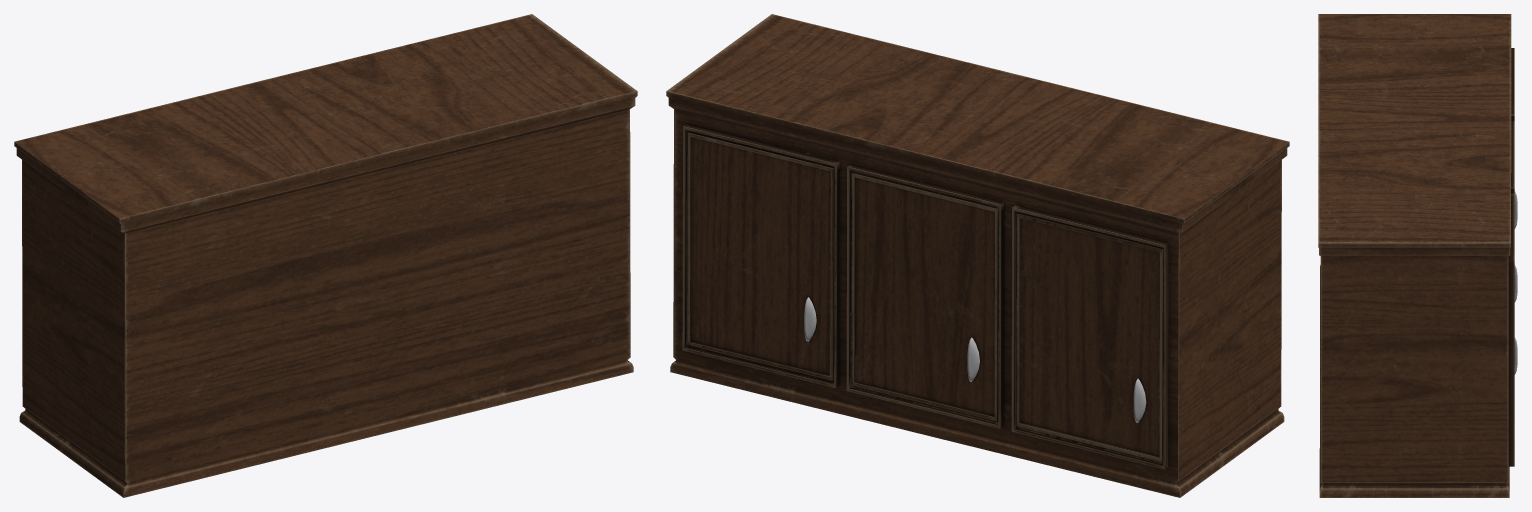
The model's file is ARC0510170.fbx.
3 renders of one model, left to right at view 1: azimuth 30°, elevation 25°; view 2: azimuth 150°, elevation 25°; view 3: azimuth 270°, elevation 25°, orthographic. The views are drawn at different scales.
Parts seen in each view (by area): view 1: smARC0510170; view 2: smARC0510170; view 3: smARC0510170.
Part boxes in pixels (bbox=[...]): smARC0510170: bbox=[14, 14, 637, 497]; smARC0510170: bbox=[666, 14, 1289, 497]; smARC0510170: bbox=[1318, 14, 1517, 497].
Bounding box in the file's own units: 177 × 92.15 × 64.7.
1 material, 1 textured.
